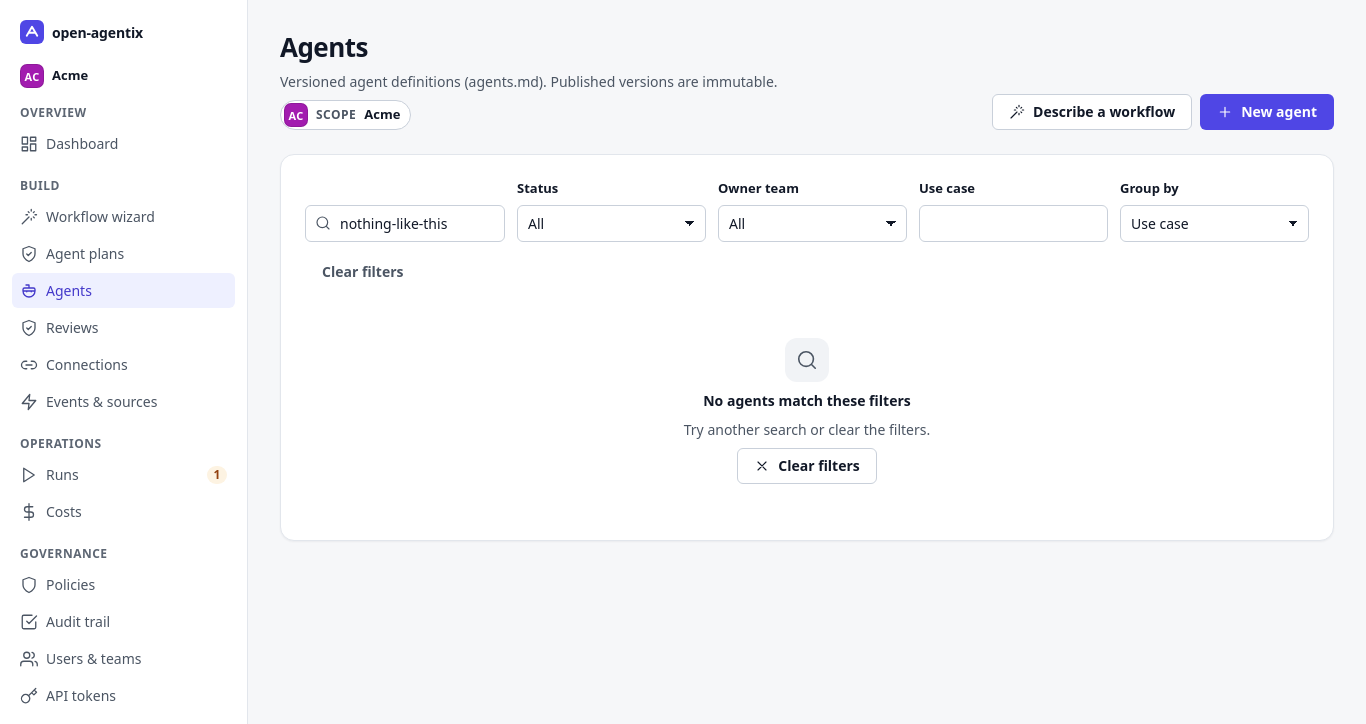
Test: agents list v2: paging, loading, empty and error states › explains "no agents match" and clears the filters
This screenshot has width=1366, height=724.
Expected: the text "No agents match these filters" is shown, left=703, top=390, right=911, bottom=411
Click the button "Clear filters" below "Status" at point(363, 272), box left=305, top=254, right=420, bottom=290
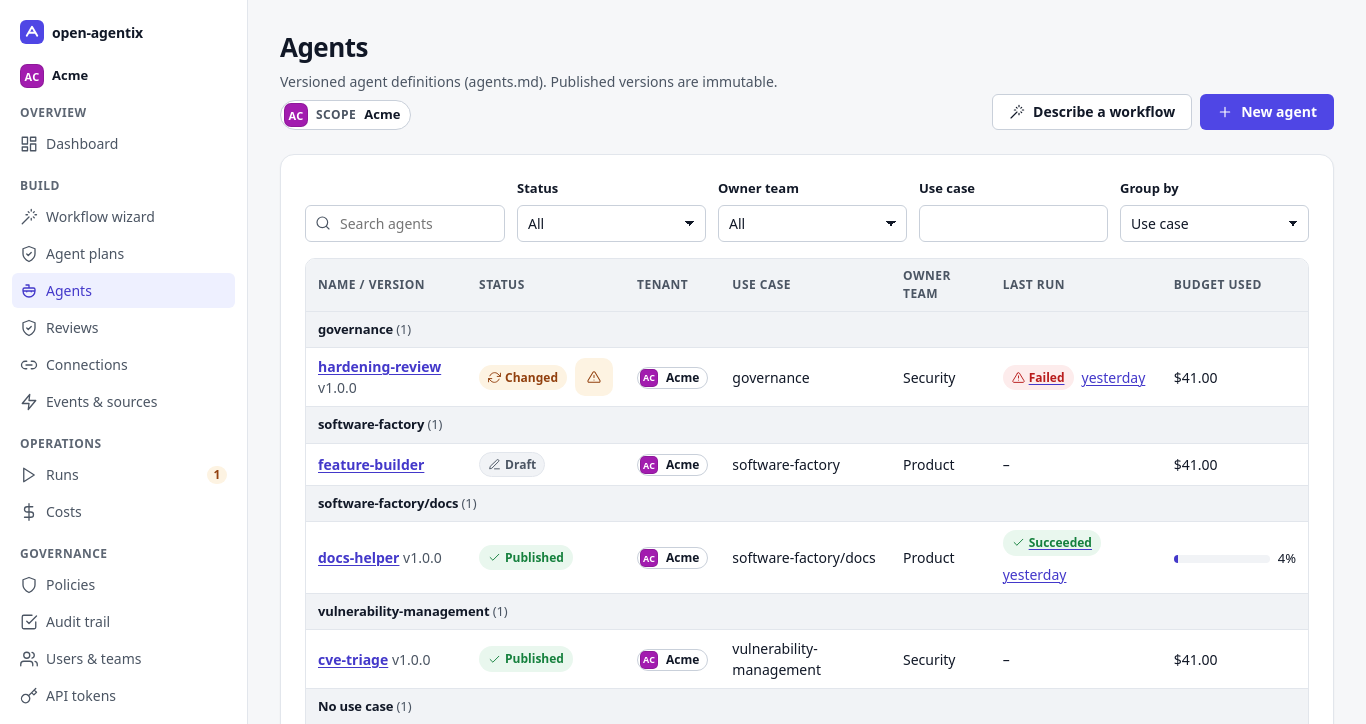
Expected: the link "cve-triage" is shown, left=318, top=650, right=388, bottom=669
Expected: the search field is empty, left=305, top=205, right=505, bottom=242
